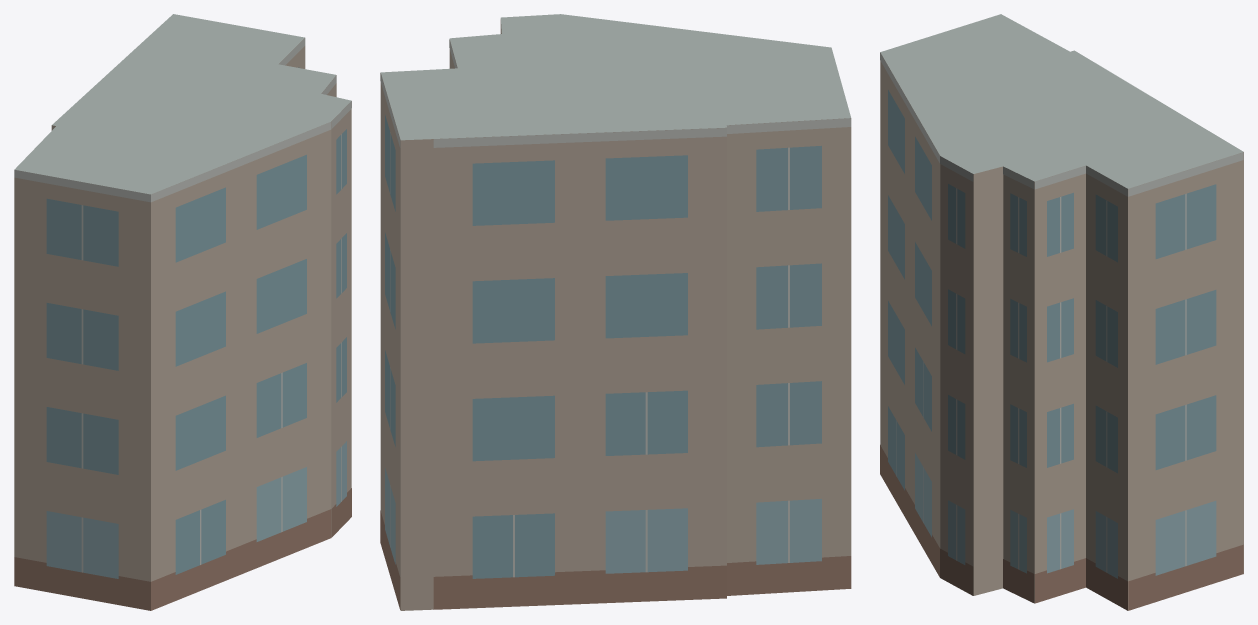
File: survey-upis-32461643.glb
3 renders of one model, left to right at view 1: azimuth 30°, elevation 25°; view 2: azimuth 150°, elevation 25°; view 3: azimuth 270°, elevation 25°, orthographic. The views are drawn at different scales.
Visible parts, largest first — view 1: survey-upis-32461643.tmp; view 2: survey-upis-32461643.tmp; view 3: survey-upis-32461643.tmp.
Boxes of the visible parts, bbox=[...] form: survey-upis-32461643.tmp: bbox=[14, 14, 351, 610]; survey-upis-32461643.tmp: bbox=[380, 14, 851, 610]; survey-upis-32461643.tmp: bbox=[880, 14, 1243, 610].
Size of the model in its own units: 11.48 by 12.9 by 10.08.
